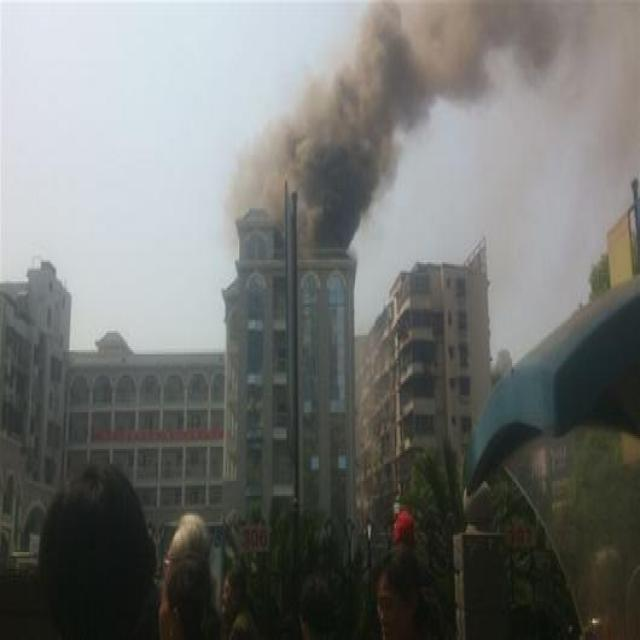smoke: (221, 0, 639, 253)
